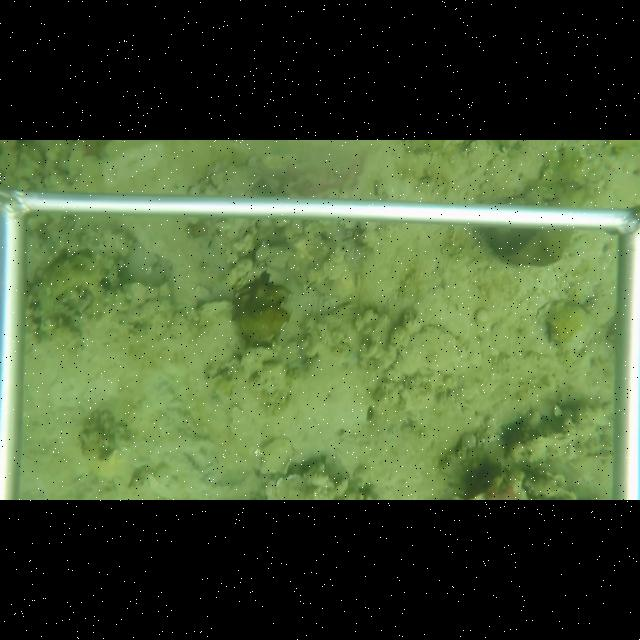Oyster-Closed: (234, 270, 292, 346), (394, 324, 462, 376)
